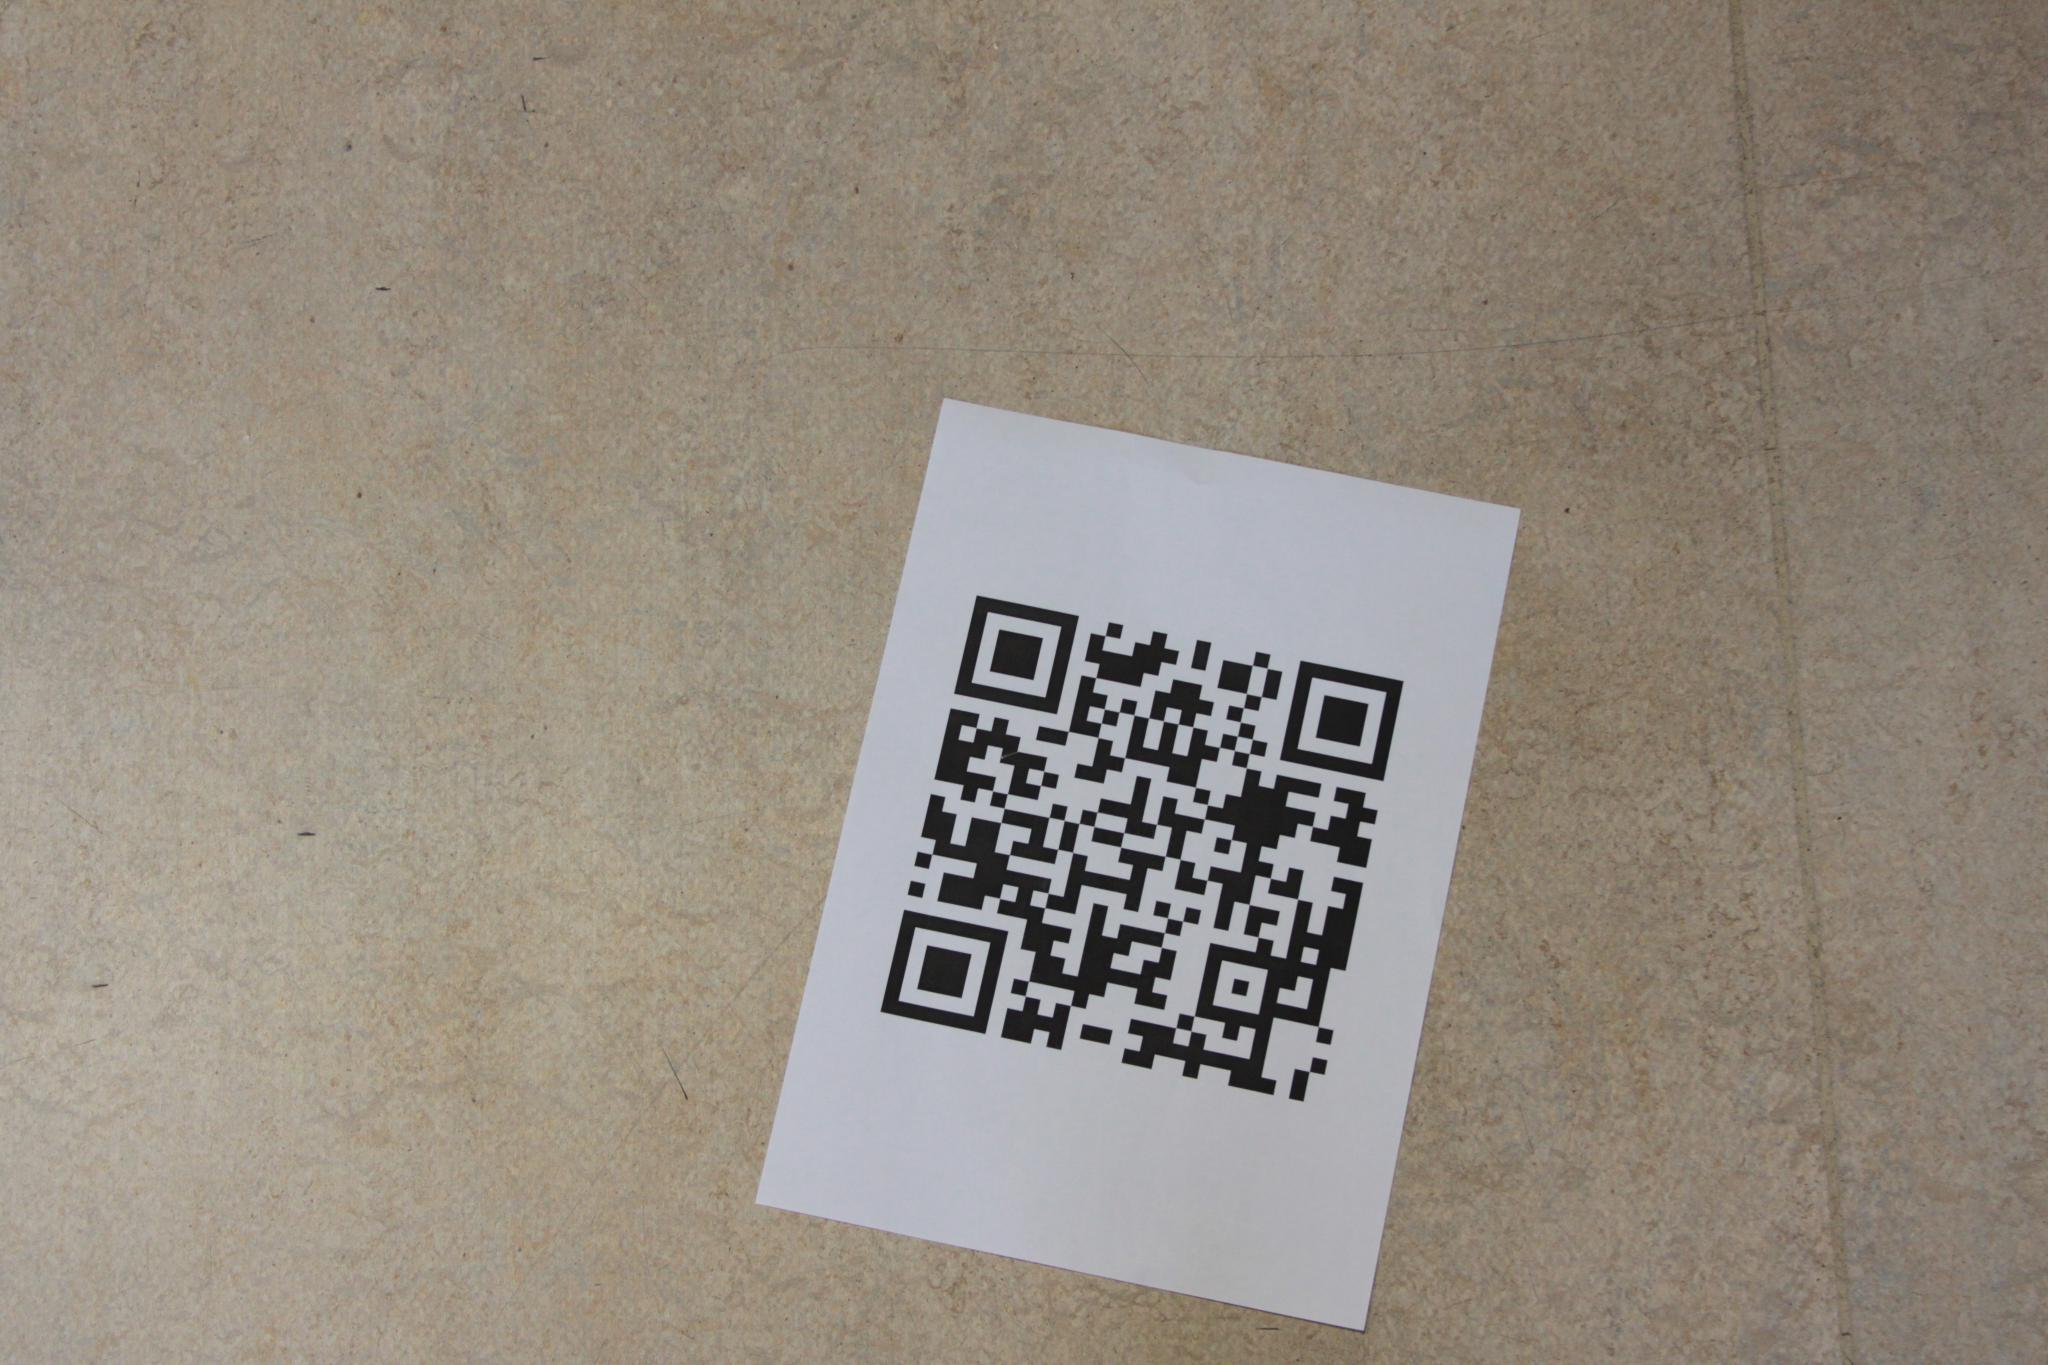Finder pattern: (869, 914, 1019, 1044), (943, 588, 1086, 714), (1284, 651, 1413, 785)
